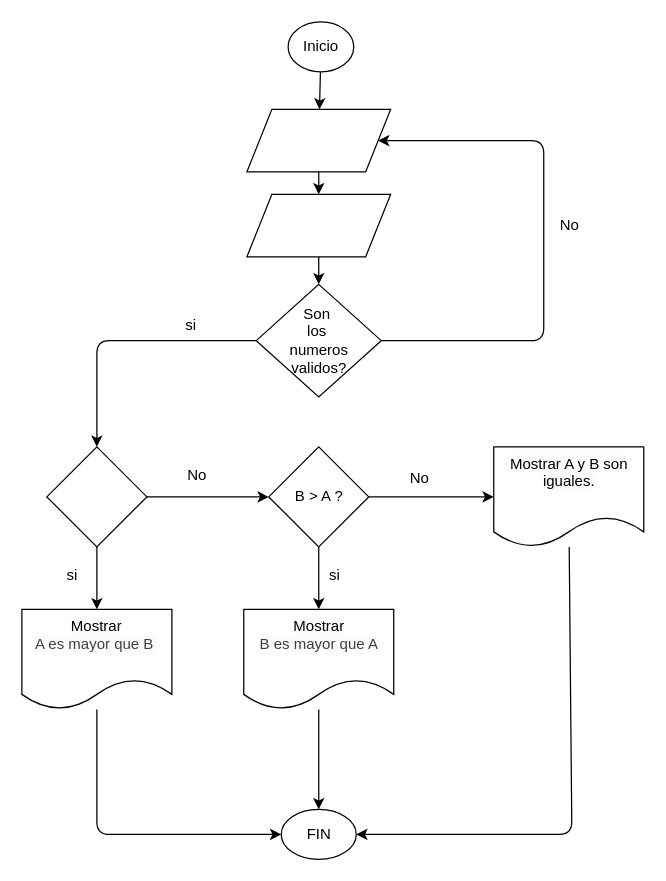
The diagram is 666 pixels wide and 881 high, and some of its shapes have lost their labels. Each missing label, with the box of its shape:
A > B ?: (46, 446, 147, 547)
Leer numero 1: (246, 108, 391, 172)
Leer numero 2: (246, 193, 391, 257)
